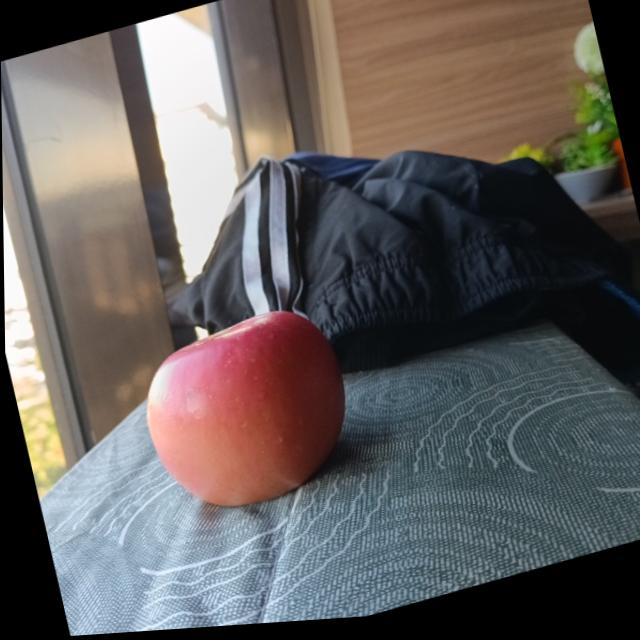apple: (129, 300, 362, 529)
